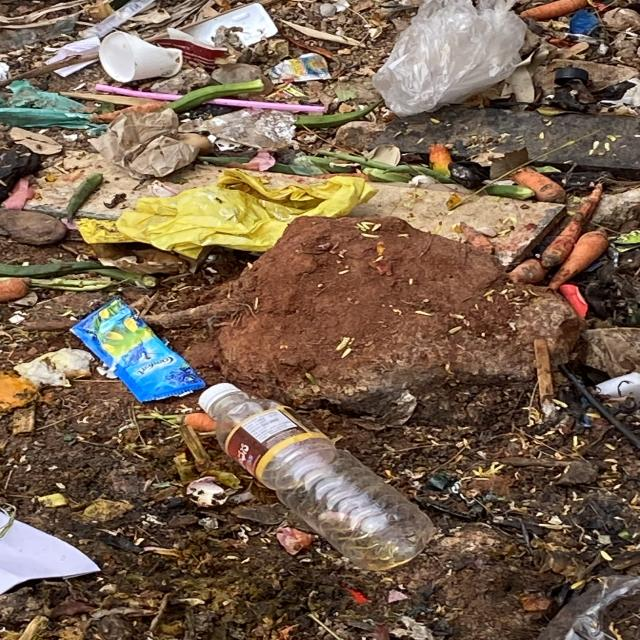giay: (88, 108, 199, 178), (0, 521, 99, 594)
giay_goi: (70, 298, 205, 402), (268, 52, 331, 82)
hop_nhua: (198, 383, 434, 572)
ly_hop_giay: (98, 30, 182, 82)
nhua: (76, 169, 375, 258), (372, 0, 527, 116)
ong_hut_nhua: (207, 97, 326, 112), (94, 83, 182, 101)
rac_huu_co: (541, 184, 608, 276), (162, 79, 263, 111), (0, 261, 146, 281), (486, 167, 566, 203), (295, 102, 379, 127), (66, 173, 102, 219), (521, 0, 589, 19), (302, 203, 337, 216), (550, 271, 568, 289)
xop: (184, 2, 277, 45)
